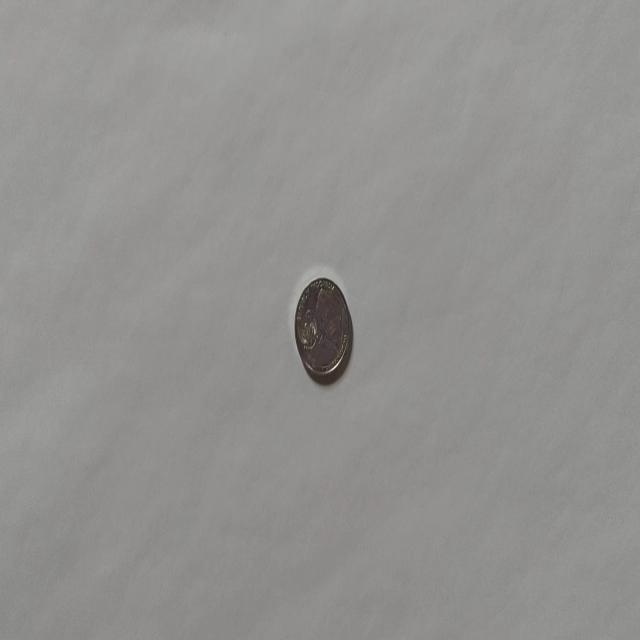dua ratus rupiah: (294, 274, 352, 382)
